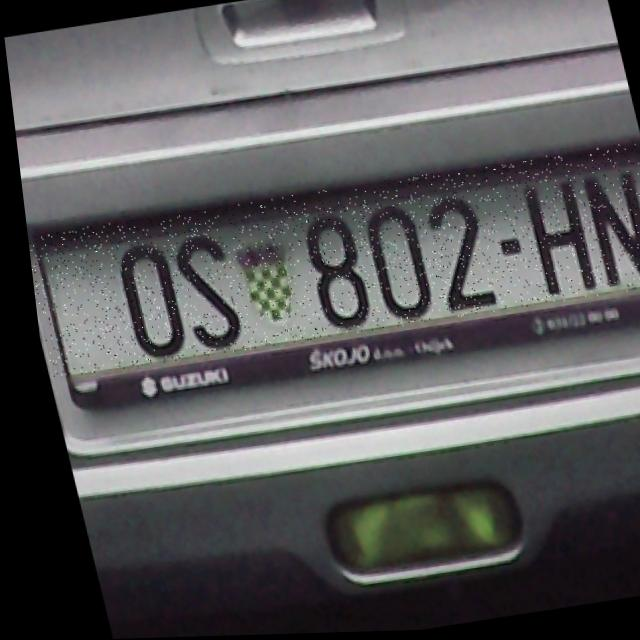license_plate: (15, 144, 640, 379)
